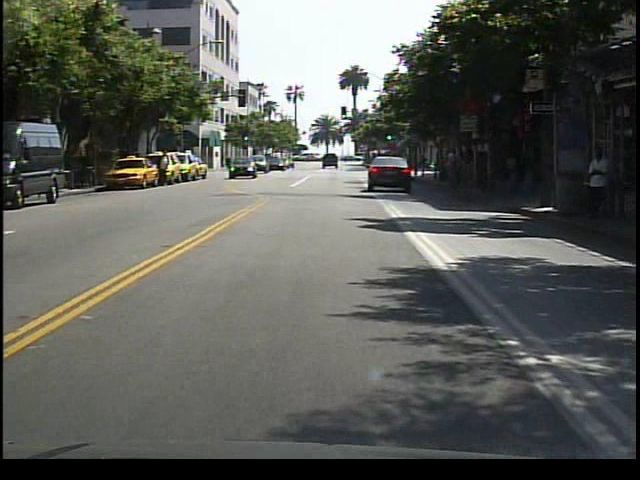person: (579, 142, 616, 227), (157, 150, 173, 190)
